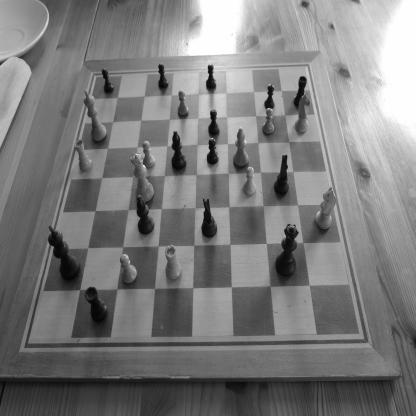black-bishop: (136, 195, 155, 235), (170, 130, 187, 171)
black-king: (48, 224, 80, 282)
black-knight: (201, 197, 218, 239), (274, 154, 289, 196)
black-pawn: (206, 138, 219, 166), (101, 68, 115, 94), (208, 108, 220, 136), (206, 63, 218, 90), (264, 83, 275, 110), (158, 63, 168, 90)
black-queen: (275, 222, 299, 278)
black-rook: (84, 285, 108, 323), (293, 75, 308, 107)
white-bishop: (233, 127, 249, 168)
white-king: (83, 88, 107, 143)
white-knight: (314, 186, 336, 231), (294, 91, 312, 133)
white-pawn: (119, 253, 138, 285), (142, 140, 156, 169), (243, 166, 256, 196), (177, 89, 189, 117), (262, 108, 274, 136)
white-queen: (130, 151, 154, 204)
white-rook: (74, 138, 93, 172), (165, 244, 182, 281)
